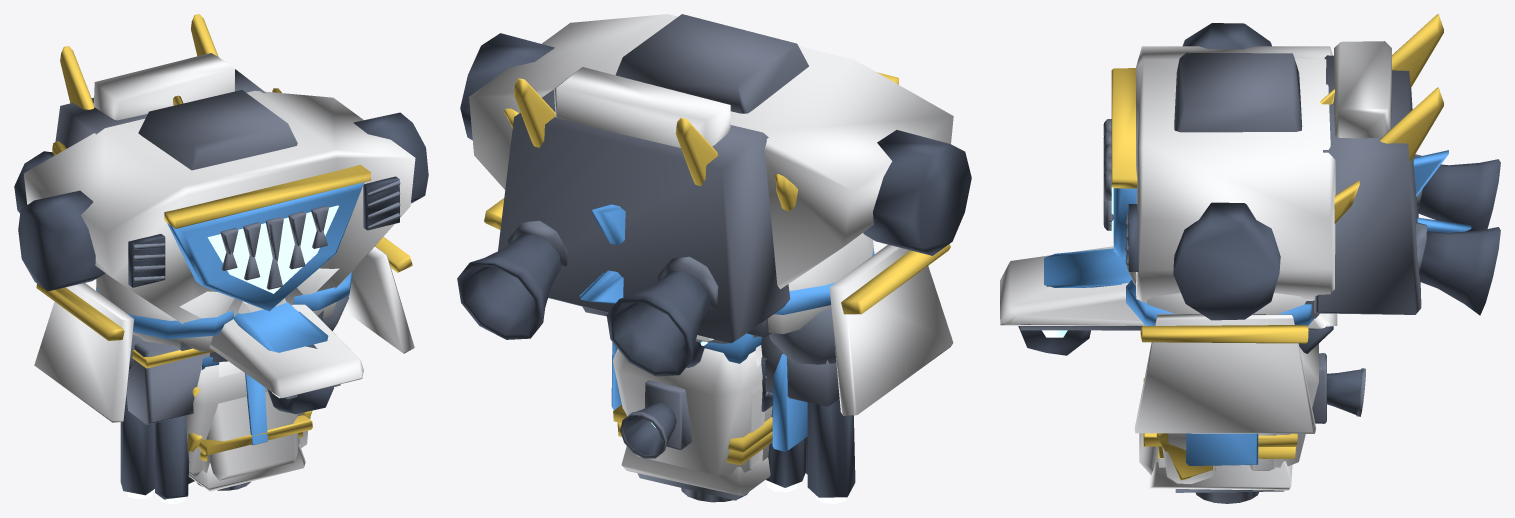
Rendered from rampart-lod1.glb.
3 views of the same model, side by side, from view 1: azimuth 30°, elevation 25°; view 2: azimuth 150°, elevation 25°; view 3: azimuth 270°, elevation 25° (orthographic). The views are drawn at different scales.
Parts seen in each view (by area): view 1: chest/chest/P, hips/hips/P, chest/chest/F, chest/chest/D, chest/chest/S, ankleL/feet/P, kneeL/shins/P, chest/backpack/P, elR/armR/D, elR/armR/F, chest/chest/T, chest/chest/G (+16 smaller); view 2: chest/backpack/F, chest/chest/P, chest/backpack/D, chest/chest/D, kneeL/shins/P, hips/hips/P, chest/chest/F, chest/backpack/P, elR/armR/D, chest/backpack/T, shR/shoulders/P, elR/armR/F (+13 smaller); view 3: chest/chest/P, hips/hips/P, chest/backpack/F, chest/chest/D, chest/chest/F, chest/backpack/D, ankleL/feet/P, chest/backpack/P, kneeL/shins/P, chest/backpack/T, chest/chest/T, hips/hips/T (+15 smaller).
Boxes of the visible parts, left/top/right/bottom form: chest/chest/P: left=23, top=90, right=415, bottom=323; hips/hips/P: left=34, top=246, right=414, bottom=422; chest/chest/F: left=138, top=90, right=328, bottom=289; chest/chest/D: left=18, top=112, right=428, bottom=291; chest/chest/S: left=167, top=182, right=364, bottom=311; ankleL/feet/P: left=209, top=304, right=363, bottom=398; kneeL/shins/P: left=188, top=298, right=305, bottom=491; chest/backpack/P: left=93, top=53, right=235, bottom=120; elR/armR/D: left=120, top=394, right=194, bottom=499; elR/armR/F: left=126, top=341, right=209, bottom=424; chest/chest/T: left=164, top=164, right=370, bottom=228; chest/chest/G: left=207, top=205, right=338, bottom=293; chest/backpack/F: left=498, top=89, right=790, bottom=343; chest/chest/P: left=469, top=14, right=953, bottom=289; chest/backpack/D: left=457, top=234, right=710, bottom=376; chest/chest/D: left=460, top=33, right=971, bottom=255; kneeL/shins/P: left=613, top=348, right=772, bottom=496; hips/hips/P: left=829, top=244, right=953, bottom=415; chest/chest/F: left=615, top=14, right=808, bottom=113; chest/backpack/P: left=554, top=67, right=730, bottom=147; elR/armR/D: left=766, top=399, right=855, bottom=497; chest/backpack/T: left=514, top=78, right=718, bottom=186; shR/shoulders/P: left=768, top=233, right=873, bottom=333; elR/armR/F: left=761, top=335, right=839, bottom=406; chest/chest/P: left=1136, top=46, right=1335, bottom=302; hips/hips/P: left=1134, top=313, right=1316, bottom=433; chest/backpack/F: left=1314, top=55, right=1426, bottom=314; chest/chest/D: left=1128, top=23, right=1280, bottom=320; chest/chest/F: left=1103, top=52, right=1302, bottom=230; chest/backpack/D: left=1418, top=159, right=1500, bottom=315; ankleL/feet/P: left=1000, top=246, right=1337, bottom=328; chest/backpack/P: left=1334, top=41, right=1391, bottom=138; kneeL/shins/P: left=1139, top=344, right=1318, bottom=490; chest/backpack/T: left=1380, top=14, right=1443, bottom=162; chest/chest/T: left=1111, top=68, right=1137, bottom=188; hips/hips/T: left=1140, top=325, right=1308, bottom=343.
Size of the model in its own units: 4.39 by 4.35 by 4.5.
